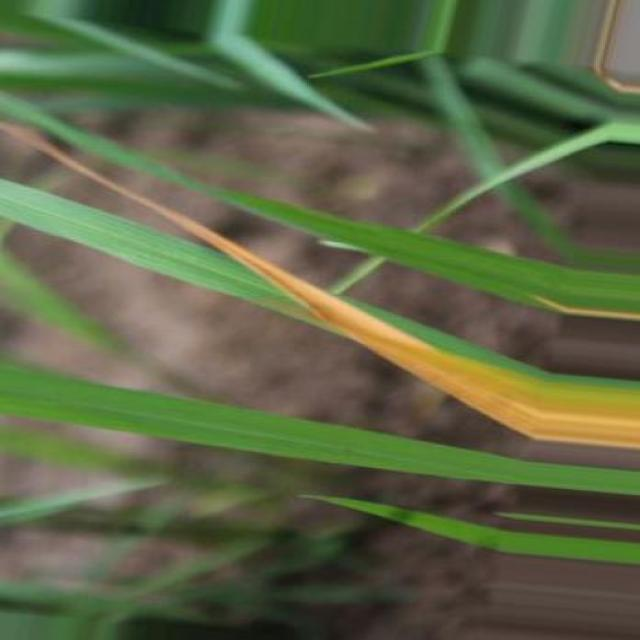Rice Tungro: (14, 127, 638, 447)
